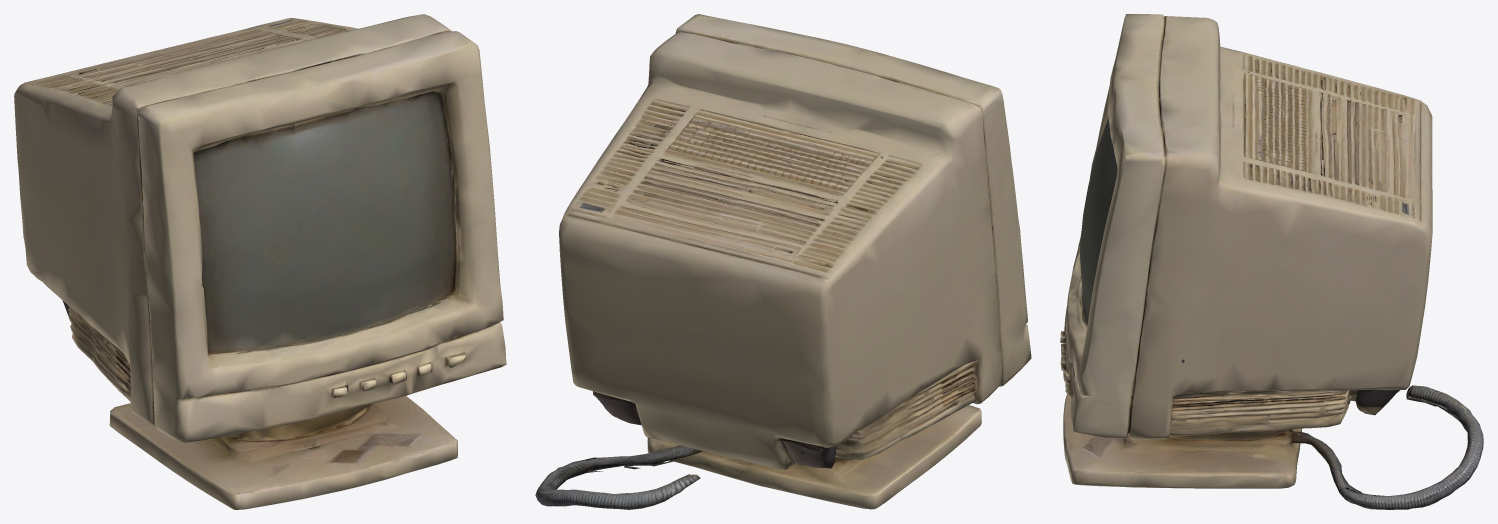
Rendered from Meshy_AI_CRT_Computer_Monitor_0228035713_texture.glb.
3 renders of one model, left to right at view 1: azimuth 30°, elevation 25°; view 2: azimuth 150°, elevation 25°; view 3: azimuth 270°, elevation 25°, orthographic. The views are drawn at different scales.
Parts seen in each view (by area): view 1: Mesh_0.002; view 2: Mesh_0.002; view 3: Mesh_0.002.
Boxes of the visible parts, left/top/right/bottom form: Mesh_0.002: left=14, top=14, right=506, bottom=509; Mesh_0.002: left=535, top=14, right=1031, bottom=509; Mesh_0.002: left=1060, top=14, right=1483, bottom=509.
Bounding box in the file's own units: 0.8927 × 1 × 1.08.
Materials: 1 (1 with a texture image).
